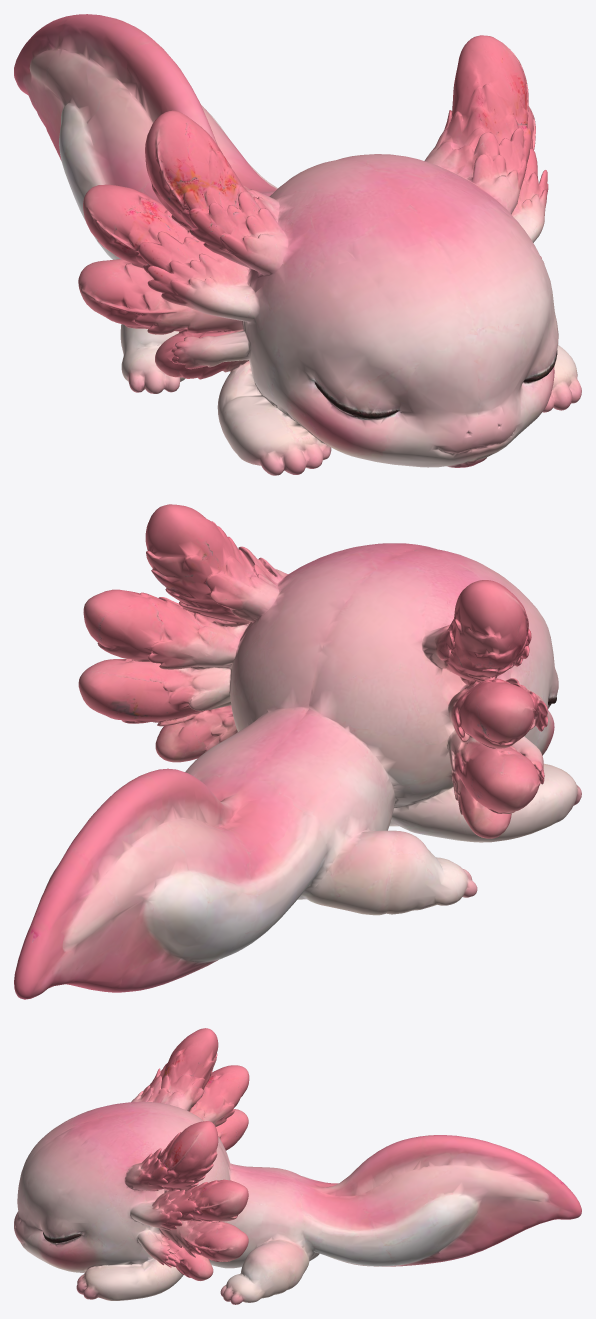
Rendered from xolo-dormido.glb.
3 renders of one model, top to bottom at view 1: azimuth 30°, elevation 25°; view 2: azimuth 150°, elevation 25°; view 3: azimuth 270°, elevation 25°, orthographic. The views are drawn at different scales.
Size of the model in its own units: 1.06 by 0.6597 by 1.9.
Materials: 1 (1 with a texture image).
